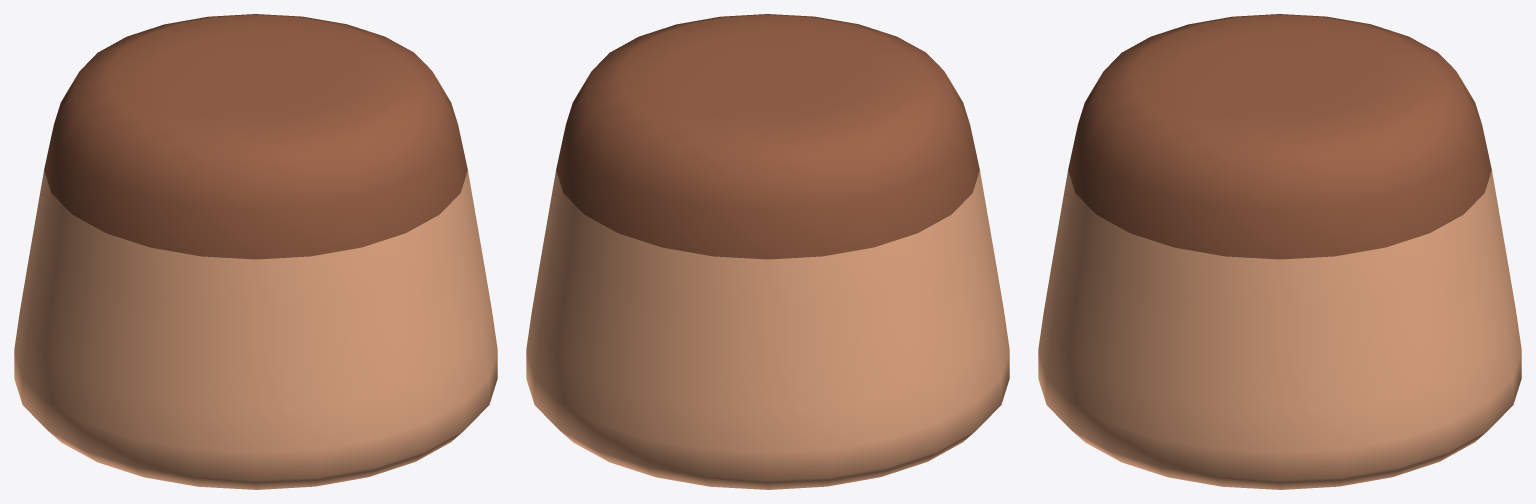
File: Pudding_A_01.fbx
3 views of the same model, side by side, from view 1: azimuth 30°, elevation 25°; view 2: azimuth 150°, elevation 25°; view 3: azimuth 270°, elevation 25° (orthographic).
Parts seen in each view (by area): view 1: Pudding_A_01_LOD0; view 2: Pudding_A_01_LOD0; view 3: Pudding_A_01_LOD0.
Part boxes in pixels (x1=…): Pudding_A_01_LOD0: x1=14, y1=14, x2=497, y2=489; Pudding_A_01_LOD0: x1=526, y1=14, x2=1009, y2=489; Pudding_A_01_LOD0: x1=1038, y1=14, x2=1521, y2=489.
Size of what is drawn, in the model's own units: 508 by 379 by 508.
